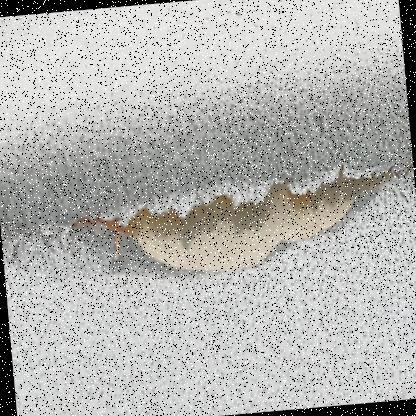Crack: (0, 89, 415, 318)
